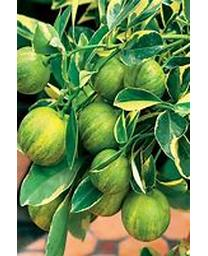lemon: (19, 107, 69, 165), (122, 189, 171, 241), (79, 101, 120, 152), (90, 149, 131, 195), (124, 58, 166, 100)
